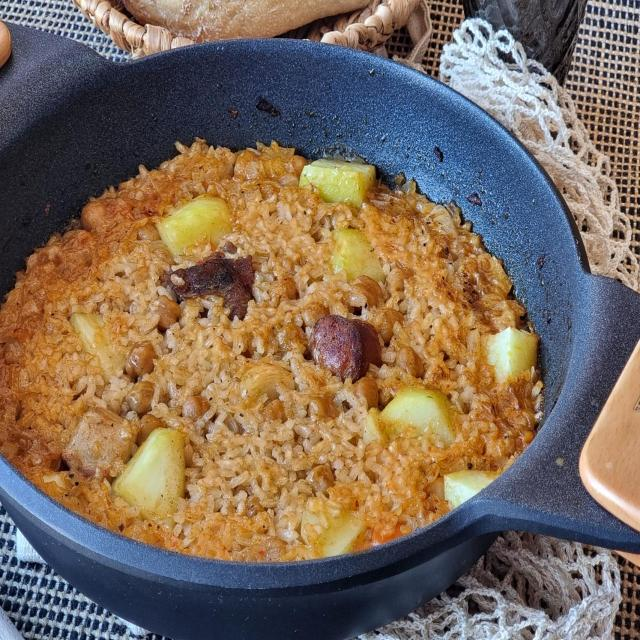arroz: (16, 169, 540, 571)
